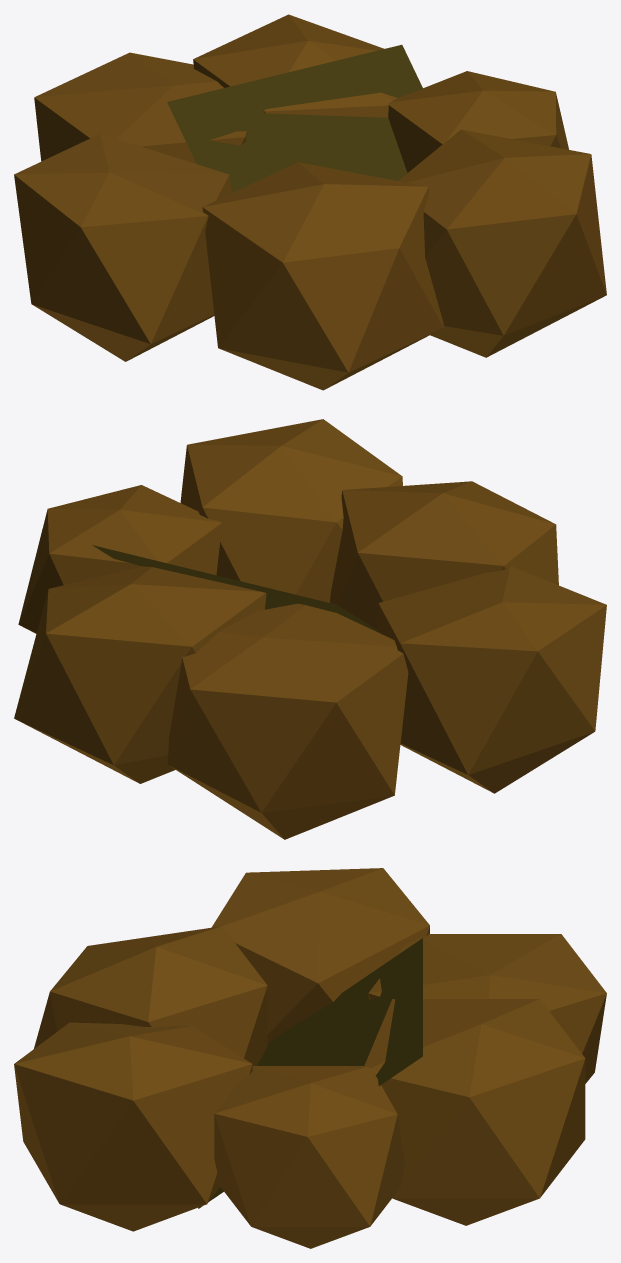
The model's file is startingrock.fbx.
3 views of the same model, one above another, from view 1: azimuth 30°, elevation 25°; view 2: azimuth 150°, elevation 25°; view 3: azimuth 270°, elevation 25° (orthographic). The views are drawn at different scales.
Visible parts, largest first — view 1: Icosphere, Cube; view 2: Icosphere, Cube; view 3: Icosphere, Cube.
Part boxes in pixels (x1,y1,x2,y2): Icosphere: (14, 14, 606, 390); Cube: (167, 44, 423, 192); Icosphere: (14, 419, 606, 839); Cube: (92, 545, 378, 631); Icosphere: (14, 868, 606, 1248); Cube: (198, 938, 422, 1208).
Bounding box in the file's own units: 446 × 172 × 423.
